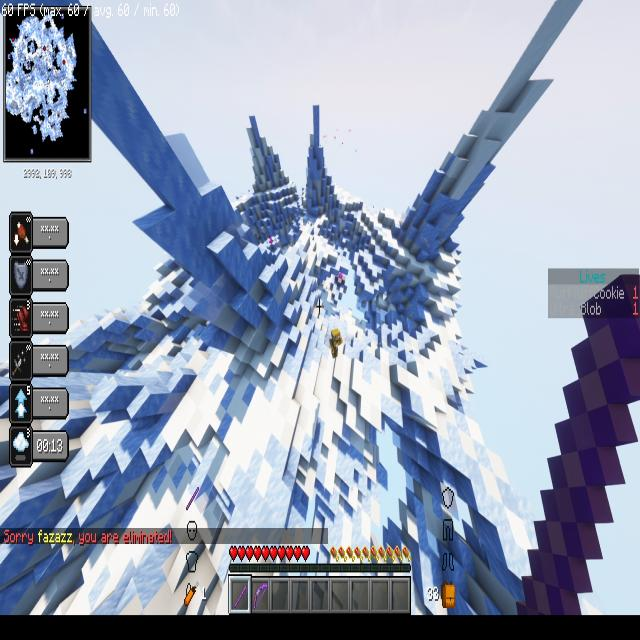Player: (327, 325, 347, 366)
